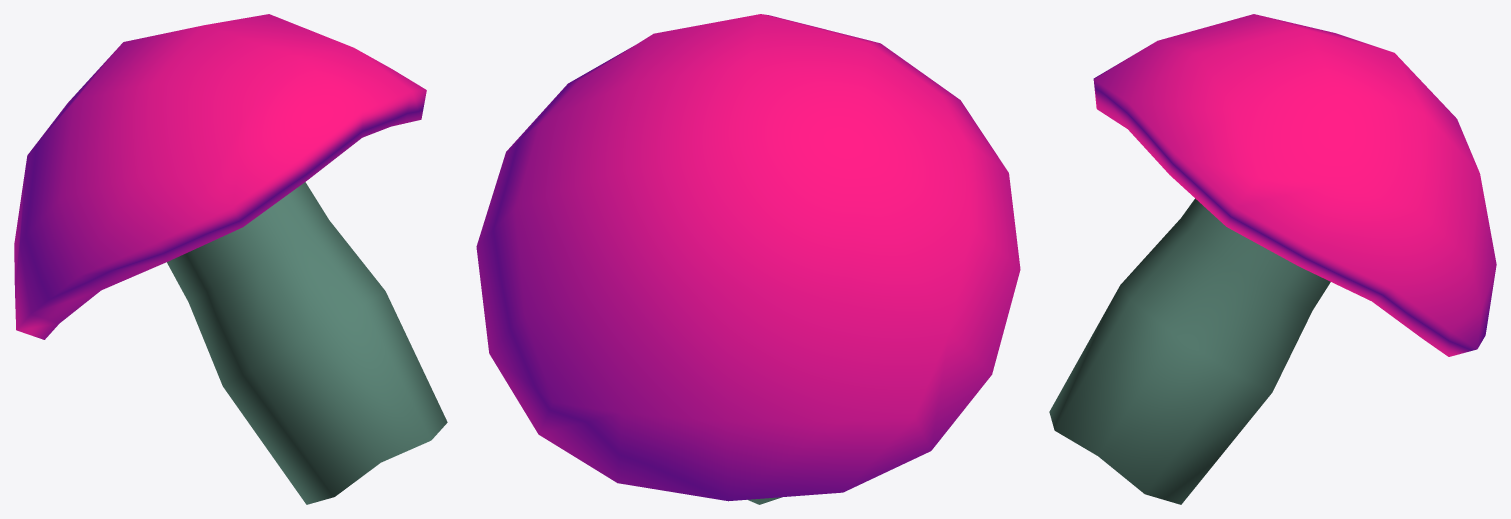
File: BMR.fbx
3 renders of one model, left to right at view 1: azimuth 30°, elevation 25°; view 2: azimuth 150°, elevation 25°; view 3: azimuth 270°, elevation 25°, orthographic. The views are drawn at different scales.
Visible parts, largest first — view 1: BezierCurve.001; view 2: BezierCurve.001; view 3: BezierCurve.001.
Part boxes in pixels (<box>): BezierCurve.001: <box>14,14,447,504</box>; BezierCurve.001: <box>476,14,1020,504</box>; BezierCurve.001: <box>1049,14,1496,504</box>.
Bounding box in the file's own units: 317 × 310 × 337.
